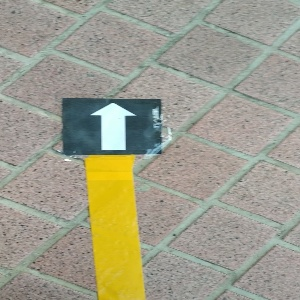straight: (63, 98, 161, 155)
